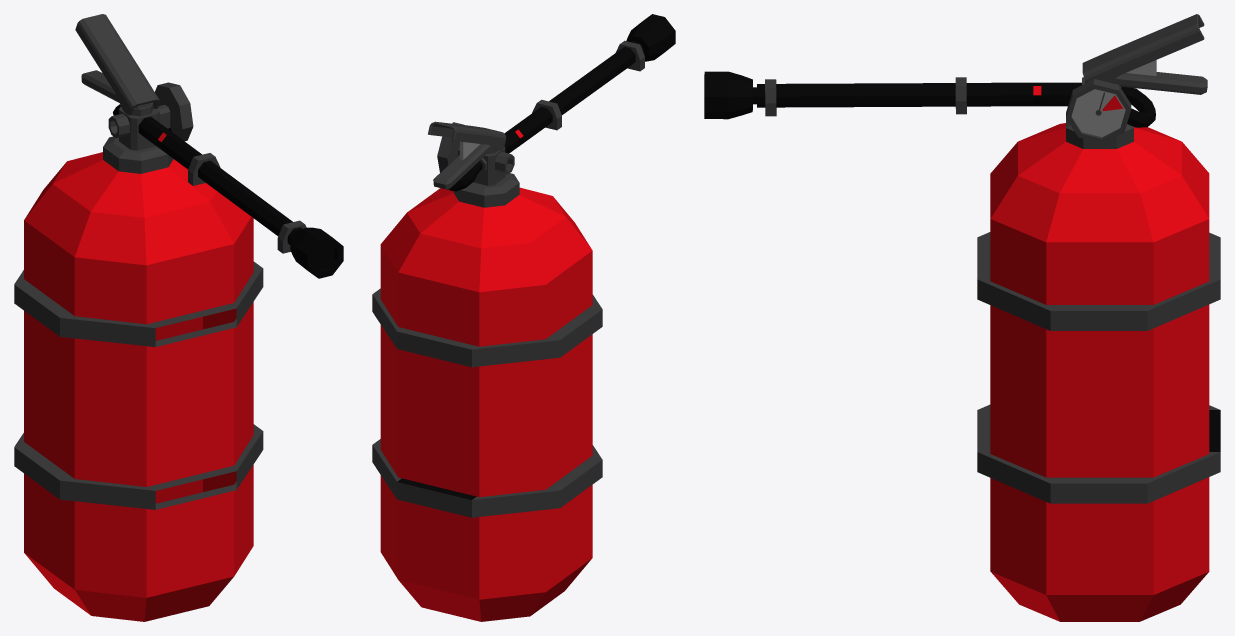
File: open-extinguisher.glb
The picture shows the model from 3 angles, left to right: view 1: azimuth 30°, elevation 25°; view 2: azimuth 150°, elevation 25°; view 3: azimuth 270°, elevation 25°; orthographic projection. The views are drawn at different scales.
Parts seen in each view (by area): view 1: Cube; view 2: Cube; view 3: Cube.
Part boxes in pixels (bbox=[...]): Cube: bbox=[14, 14, 343, 621]; Cube: bbox=[372, 14, 675, 621]; Cube: bbox=[704, 14, 1220, 621].
Bounding box in the file's own units: 0.2274 × 0.5907 × 0.4718.
